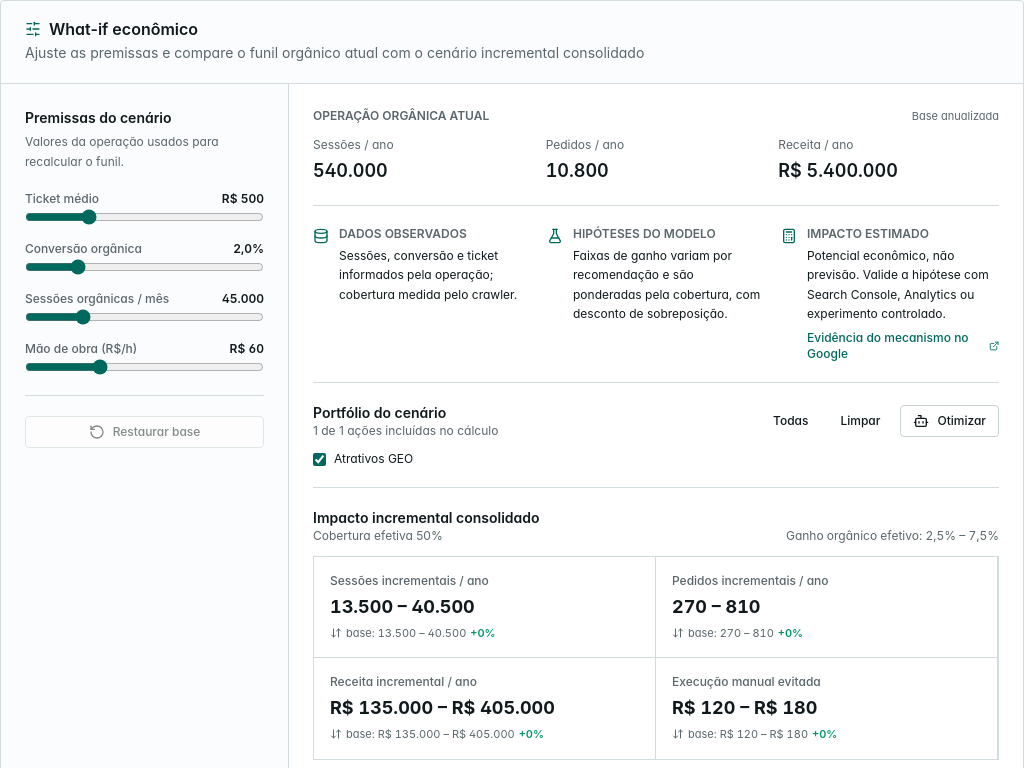
WhatIfPanel › recalcula receita ao mover o slider de ticket médio
The image size is (1024, 768).
Set the slider labelled "Ticket médio" to "1000": (144, 217) [25,213,264,221]
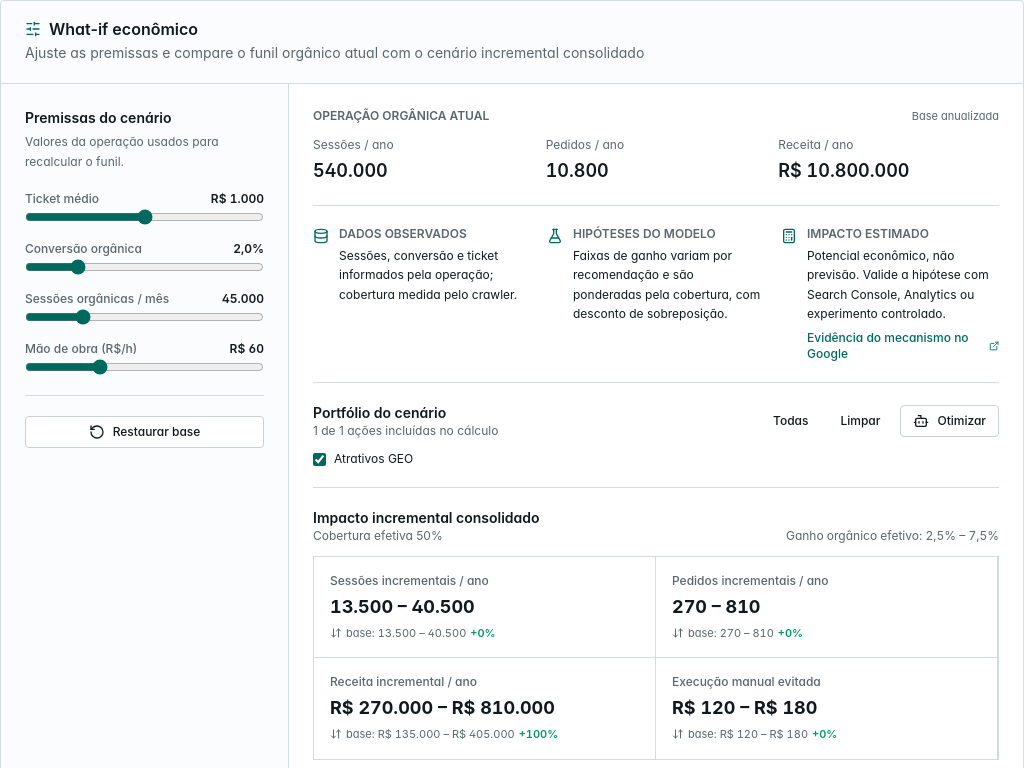
expect the text "R$ 270.000 – R$ 810.000" is shown: met, box [330,697,555,718]
